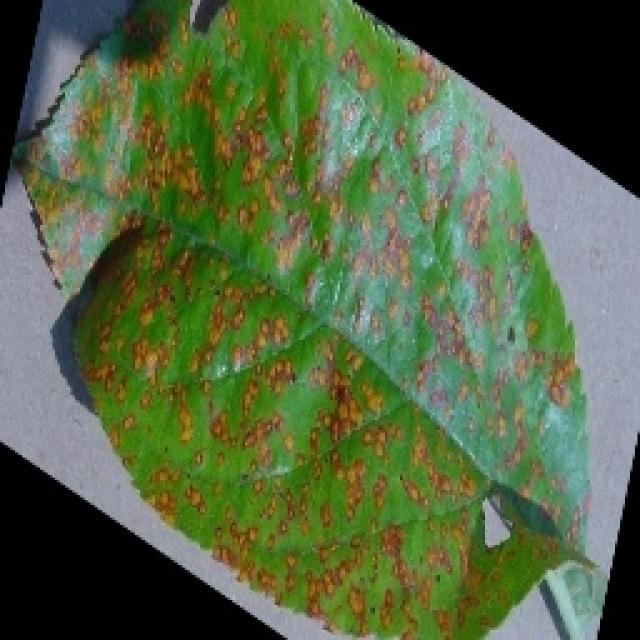Gymnosporangium_Rusts: (10, 0, 602, 638)
